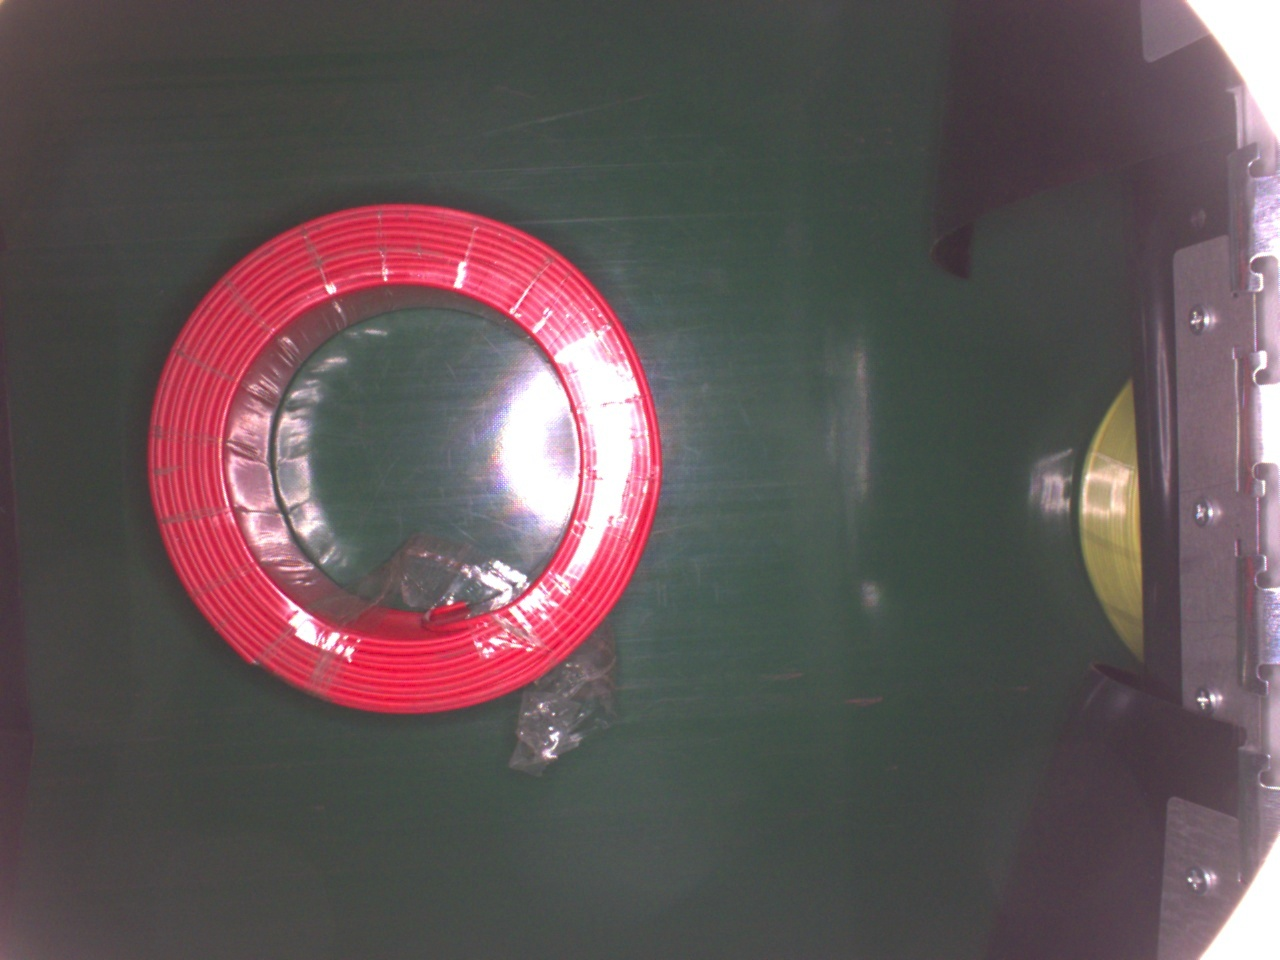red: (149, 198, 668, 719)
